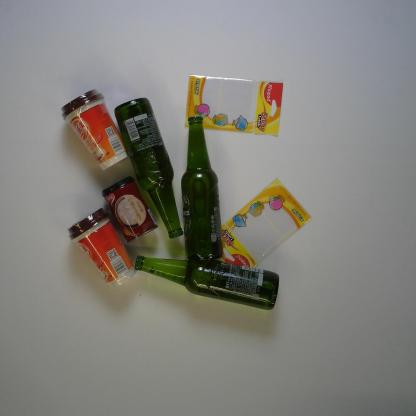Alcohol: (113, 97, 185, 240), (134, 254, 280, 312), (180, 114, 224, 262)
Canned Food: (100, 175, 160, 245)
Instant Drink: (66, 206, 138, 291), (60, 86, 128, 172)
Stationery: (220, 176, 312, 268), (184, 74, 284, 138)
